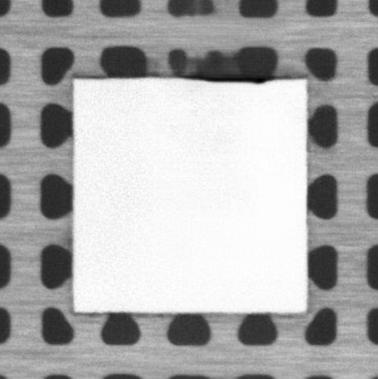DIE_BROKEN: (183, 72, 274, 84)
